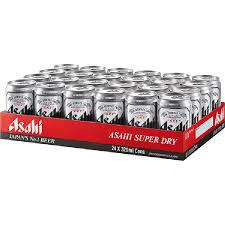beer: (1, 64, 225, 167)
